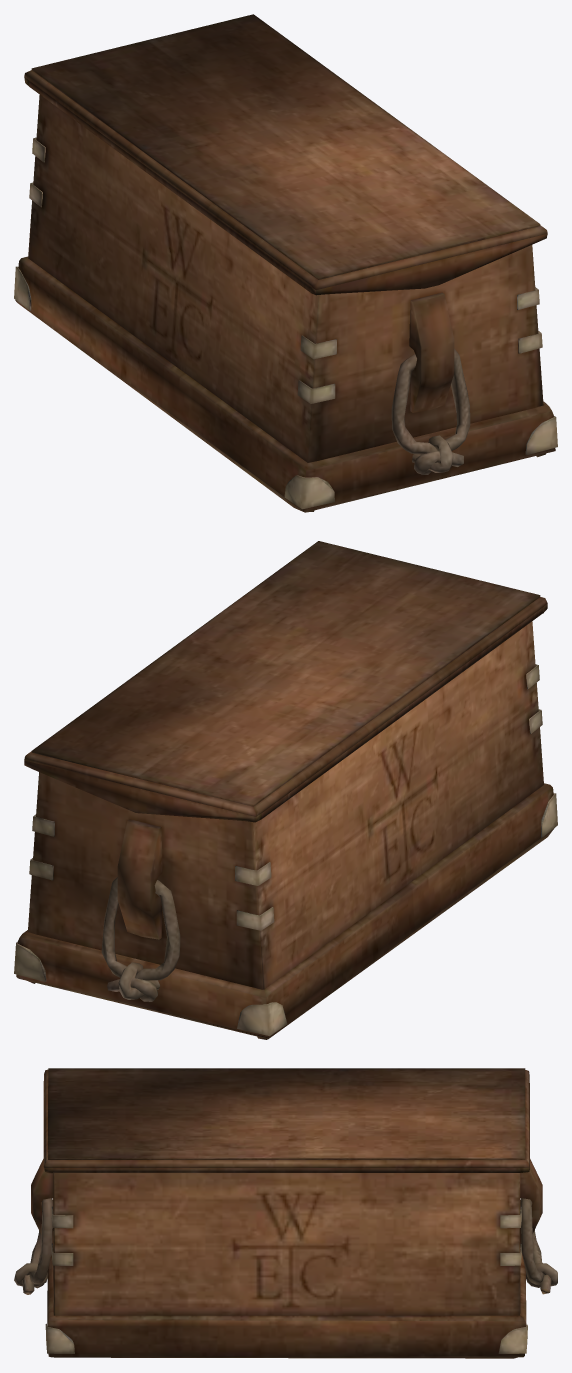
File: ph-wooden_crate_02.glb
The picture shows the model from 3 angles, top to bottom: view 1: azimuth 30°, elevation 25°; view 2: azimuth 150°, elevation 25°; view 3: azimuth 270°, elevation 25°; orthographic projection. The views are drawn at different scales.
Visible parts, largest first — view 1: wooden_crate_02_crate; view 2: wooden_crate_02_crate; view 3: wooden_crate_02_crate.
Boxes of the visible parts, x1,y1,x2,y2 form: wooden_crate_02_crate: [14, 14, 557, 512]; wooden_crate_02_crate: [14, 541, 557, 1039]; wooden_crate_02_crate: [14, 1068, 557, 1358].
Size of the model in its own units: 0.5291 by 0.464 by 1.16.
Materials: 1 (1 with a texture image).
